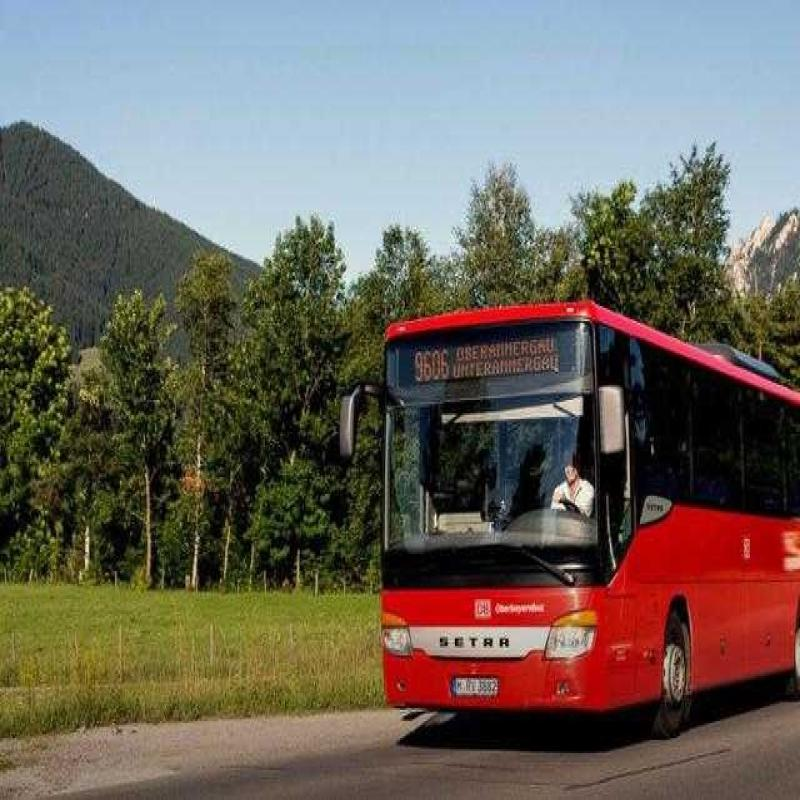bus: (348, 257, 800, 748)
